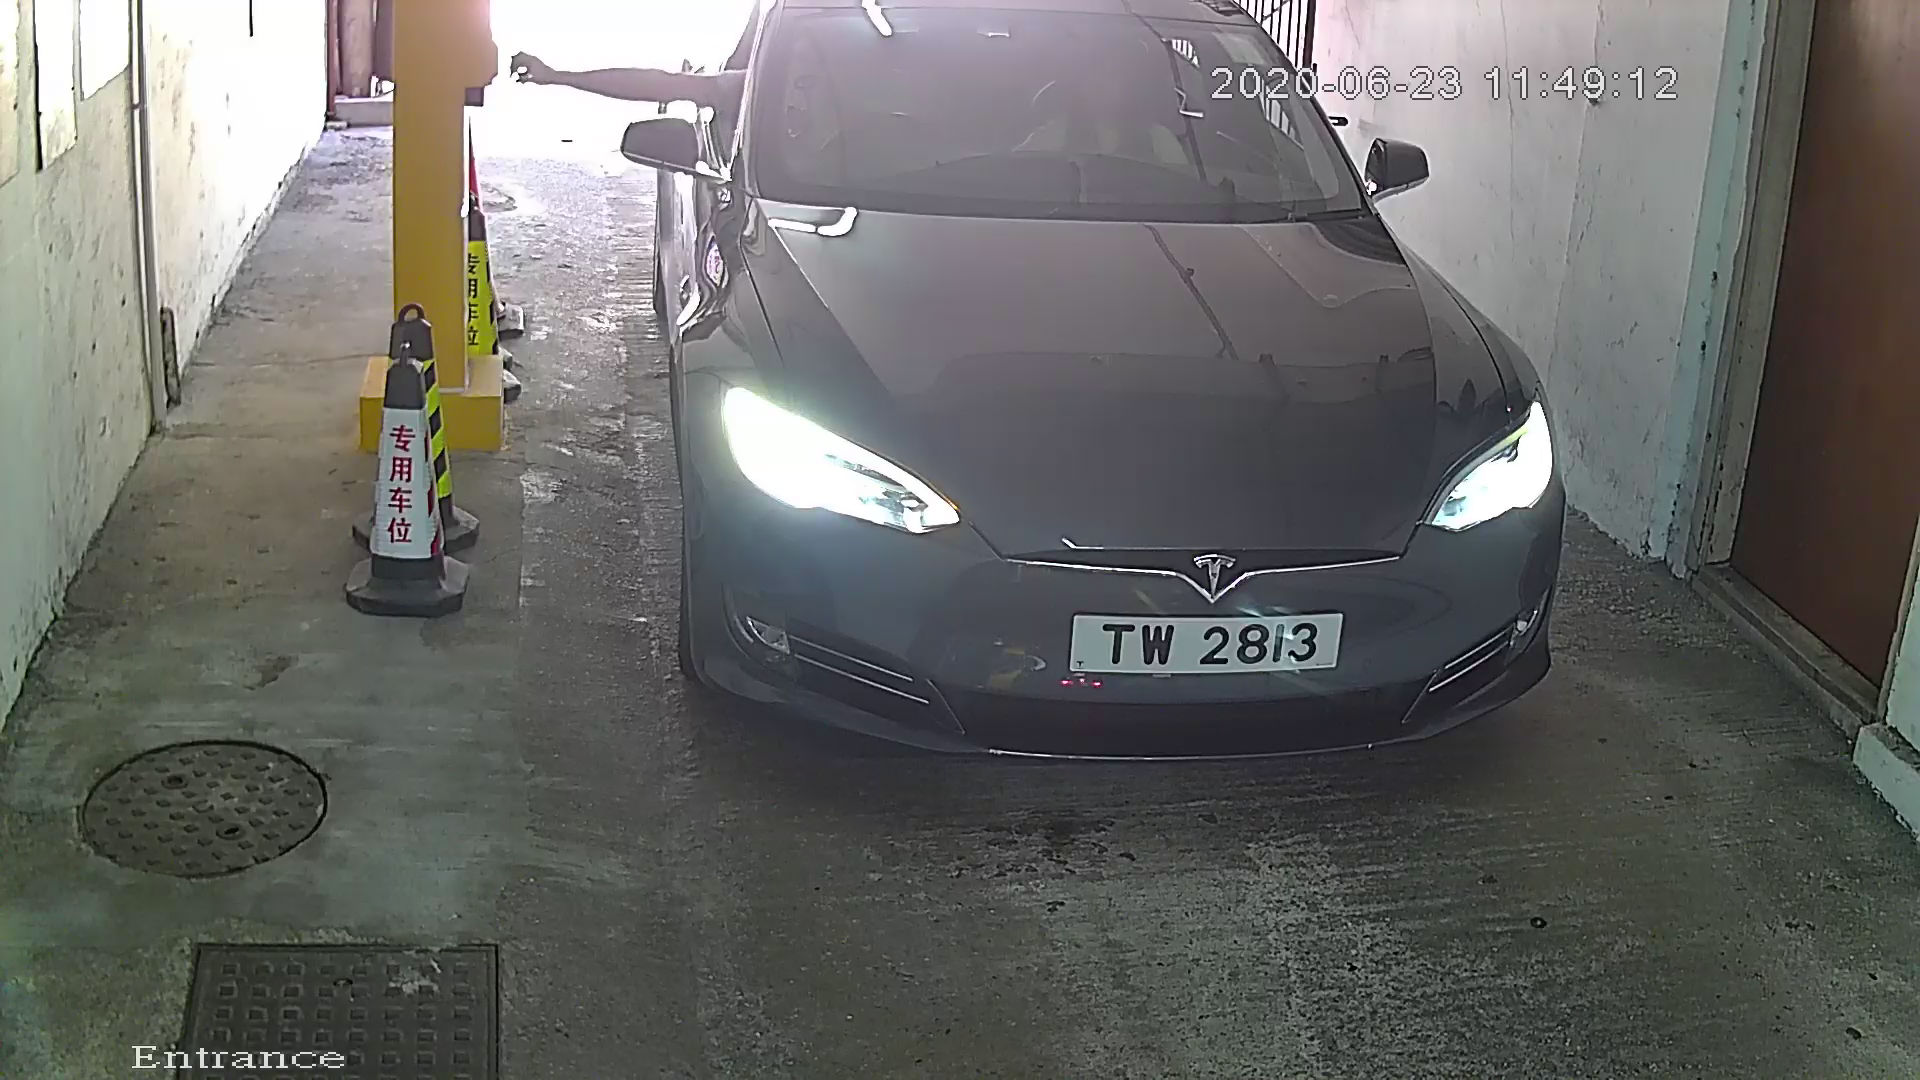privatecar: (607, 1, 1631, 771)
